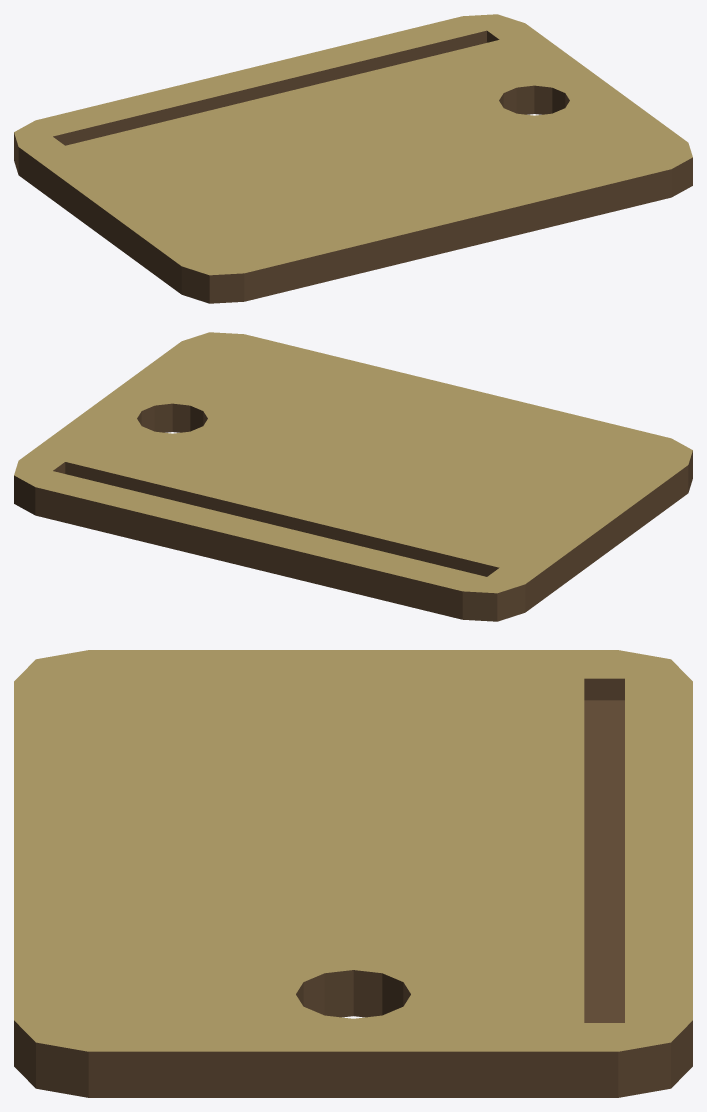
The model's file is cutting_board.glb.
3 views of the same model, one above another, from view 1: azimuth 30°, elevation 25°; view 2: azimuth 150°, elevation 25°; view 3: azimuth 270°, elevation 25° (orthographic). The views are drawn at different scales.
Visible parts, largest first — view 1: cutting_board; view 2: cutting_board; view 3: cutting_board.
Boxes of the visible parts, <box> form: cutting_board: <box>14,14,692,303</box>; cutting_board: <box>14,332,692,621</box>; cutting_board: <box>14,650,692,1097</box>.
Bounding box in the file's own units: 0.28 × 0.015 × 0.2.
